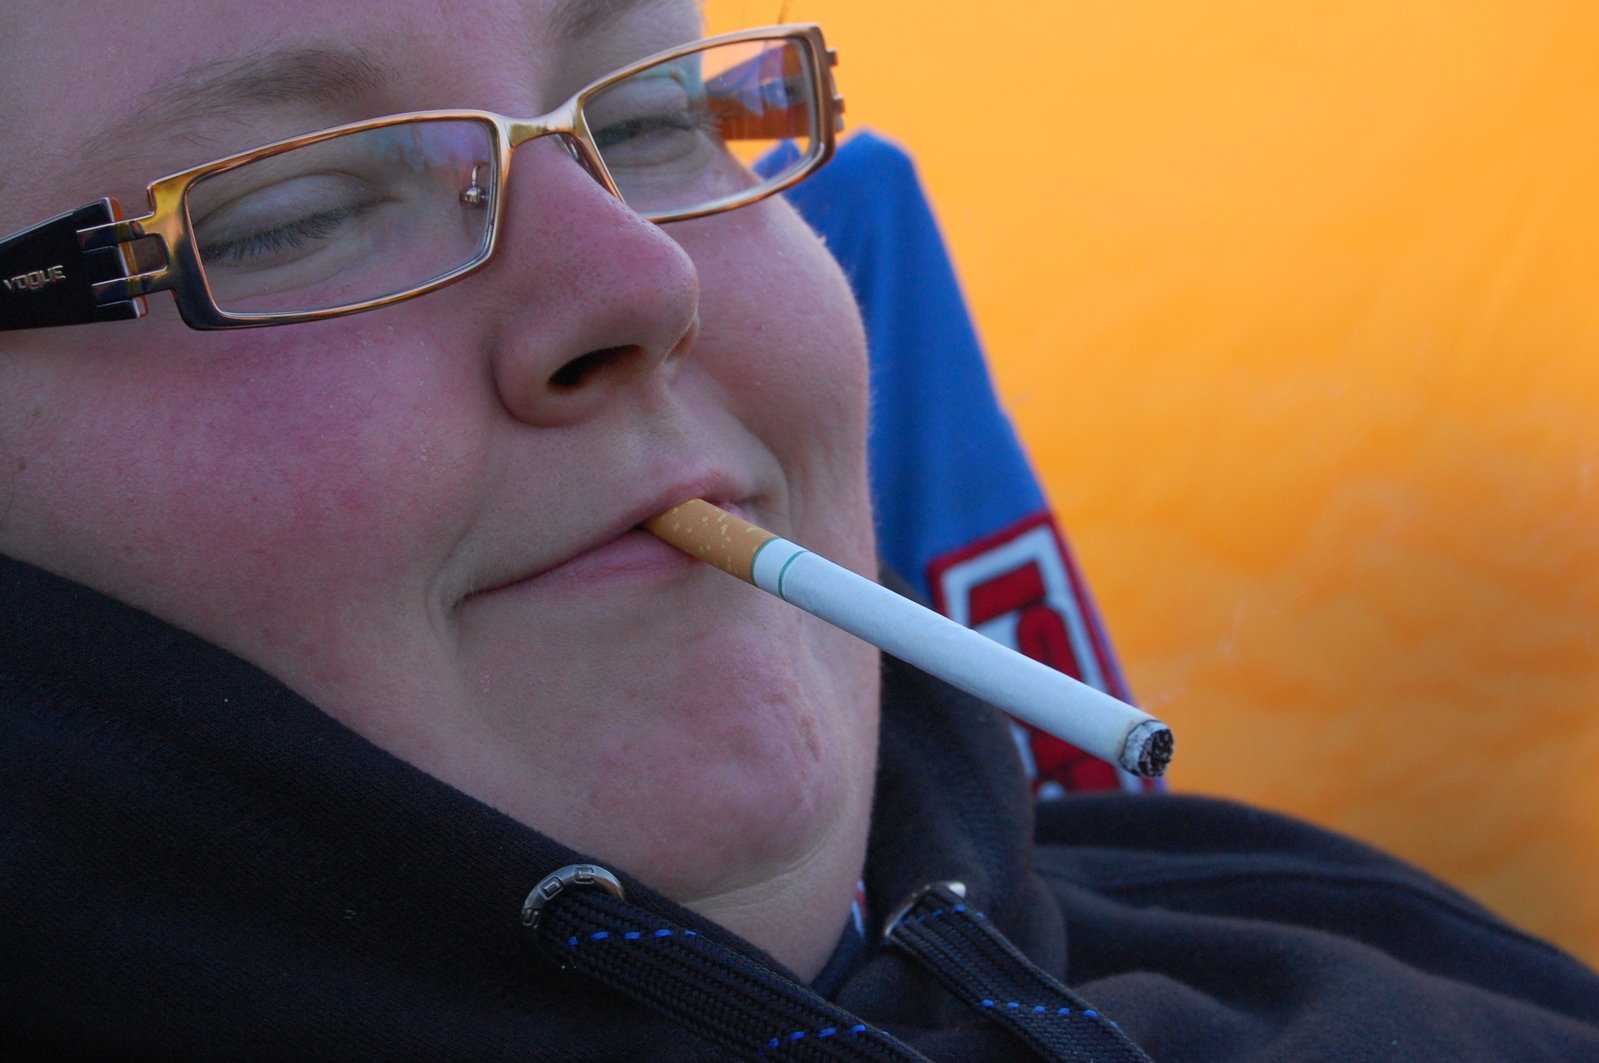cigarette: (643, 490, 1176, 787)
